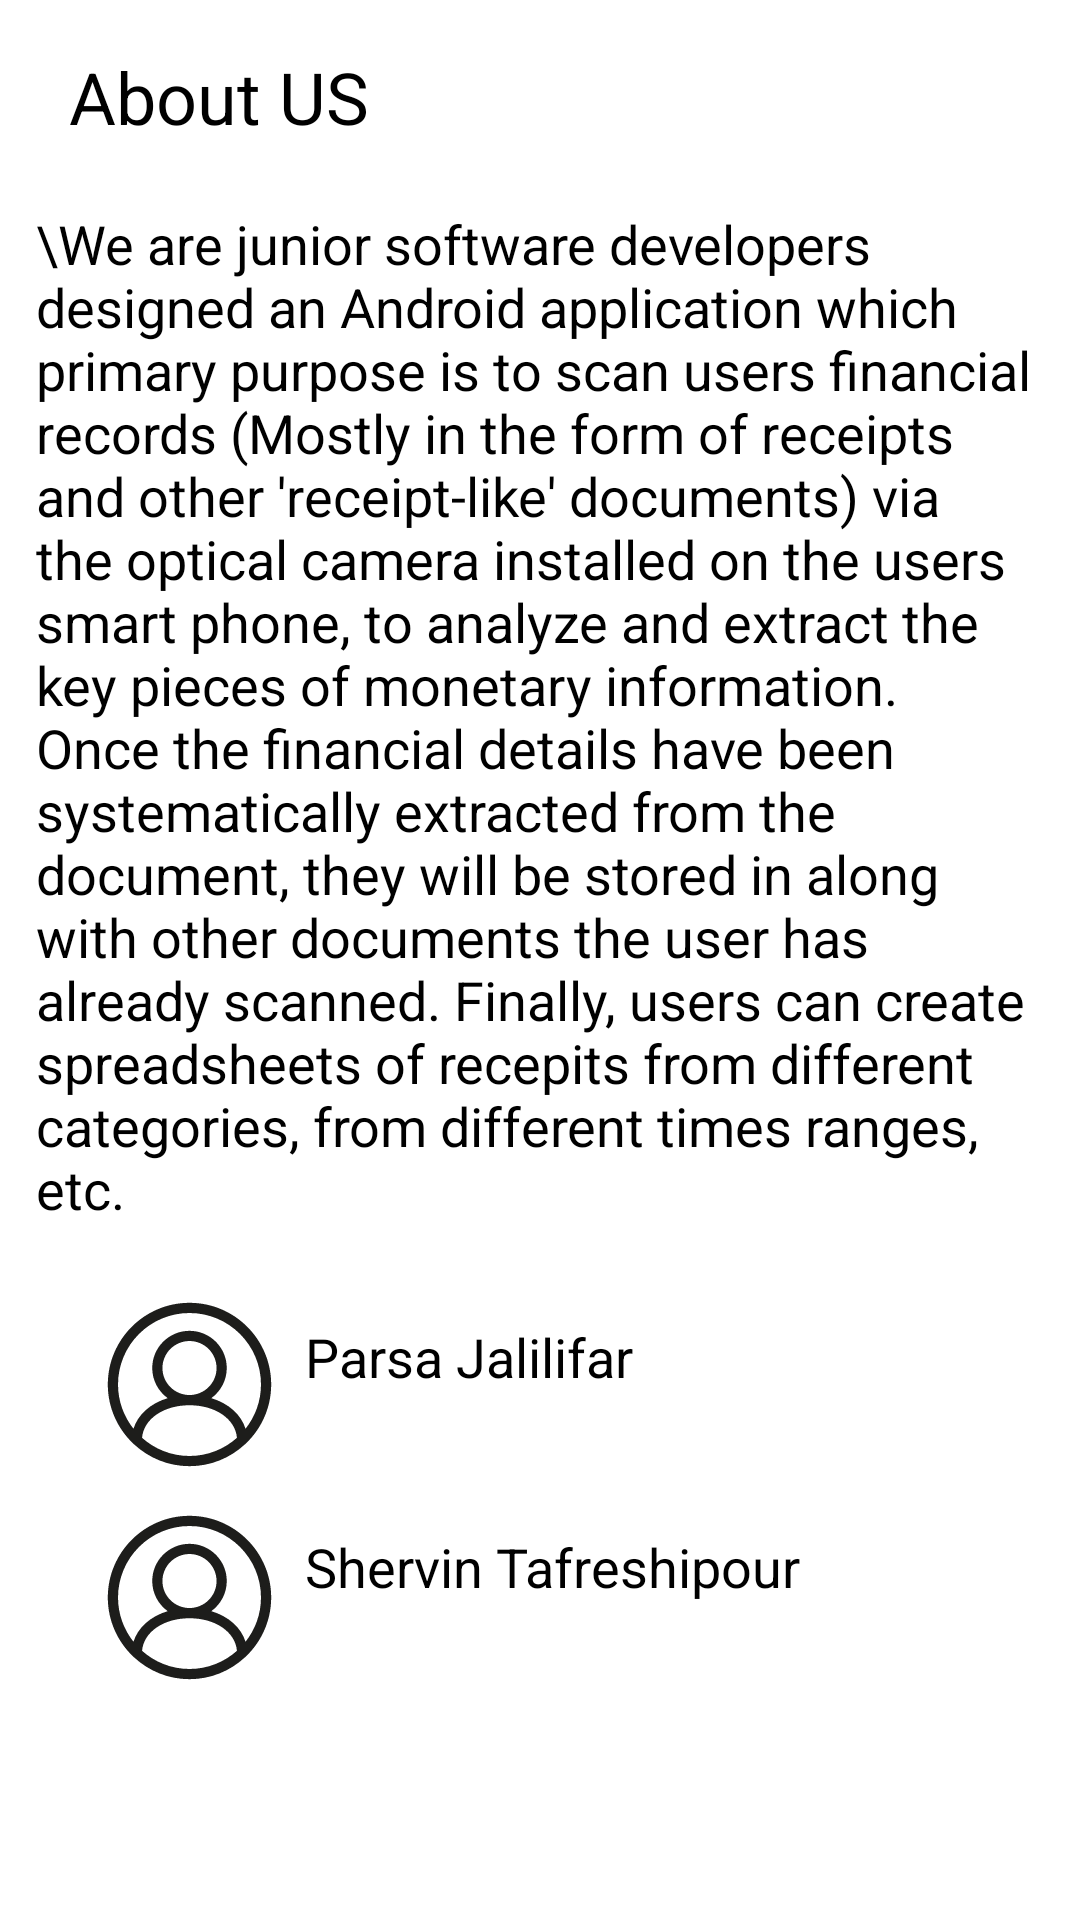

Screen size 1080*1920. Icon name, then its center in pixels as point (x, y):
profile: point (189, 1384), point (189, 1597)
